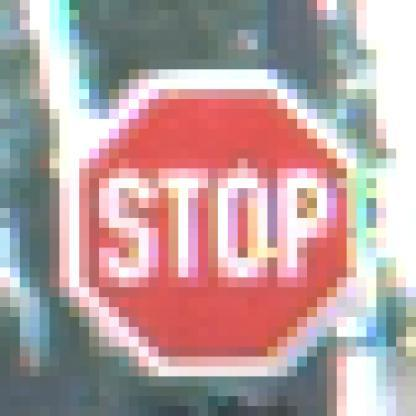Stop: (64, 75, 360, 374)
